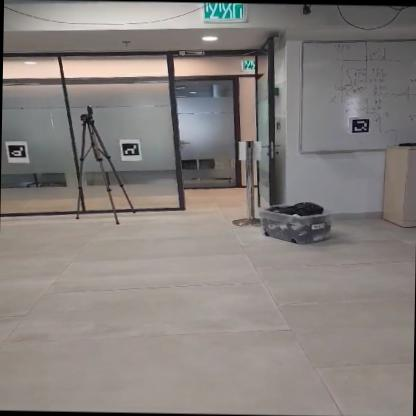open: (173, 73, 278, 223)
